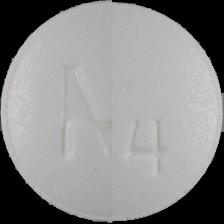0378-2074: (0, 0, 224, 224)
